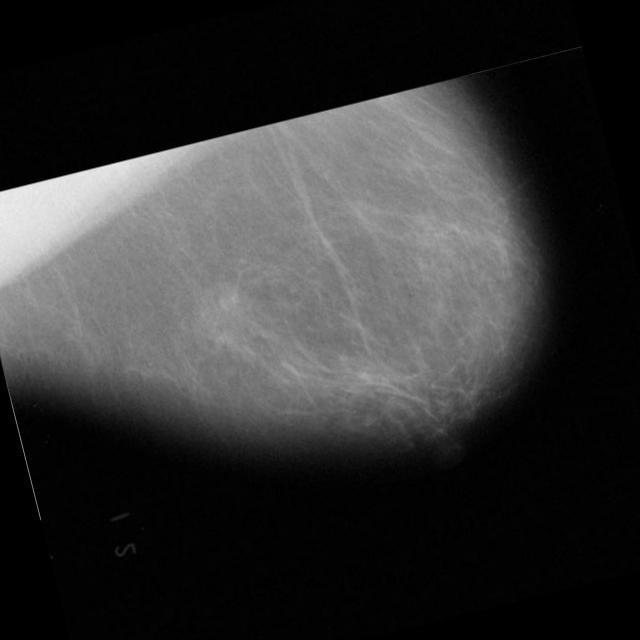ARCH: (197, 278, 249, 330)
